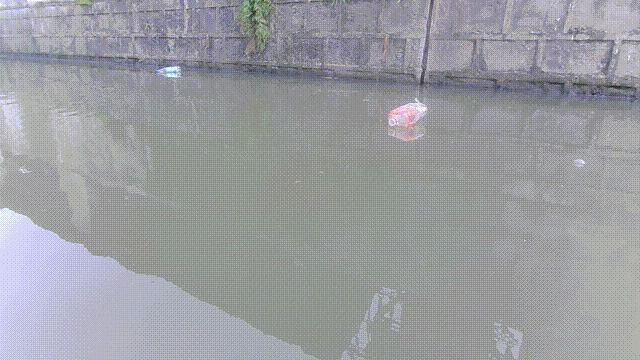Plastic: (384, 92, 428, 131), (155, 66, 185, 81)
